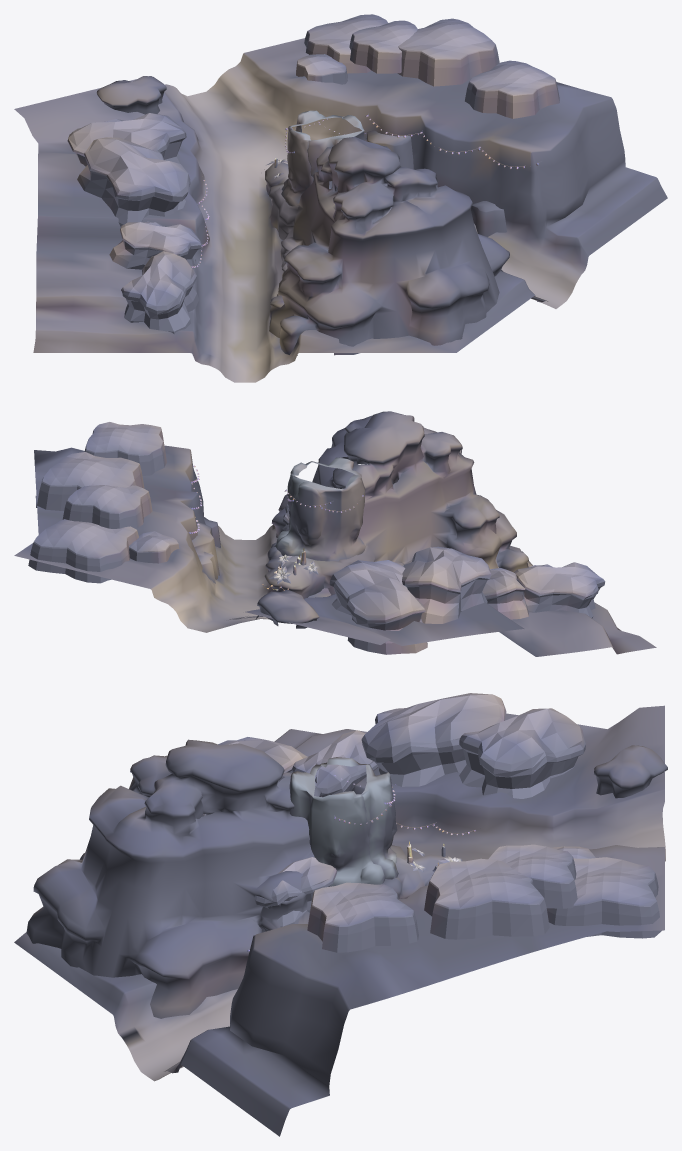
The model's file is Arctic_Luge_Junction_B.glb.
3 renders of one model, top to bottom at view 1: azimuth 30°, elevation 25°; view 2: azimuth 150°, elevation 25°; view 3: azimuth 270°, elevation 25°, orthographic. The views are drawn at different scales.
Visible parts, largest first — view 1: Arctic_Luge_Junction_B, Arctic_Luge_LargeRock_prop (1), Arctic_Luge_MediumIceRock_prop (2), Arctic_Luge_LargeRock_prop (2), Arctic_Luge_MediumIceRock_prop (3), Arctic_Luge_LargeRock_prop, Arctic_Luge_LargeRock_prop (5), uvfixed_totem, Arctic_Luge_MediumIceRock_prop (1), Arctic_Luge_MediumIceRock_prop, Arctic_Luge_SmallIceRock_prop; view 2: Arctic_Luge_Junction_B, uvfixed_totem, Arctic_Luge_LargeRock_prop, Arctic_Luge_LargeRock_prop (1), Arctic_Luge_MediumIceRock_prop, Arctic_Luge_LargeRock_prop (2), Arctic_Luge_MediumIceRock_prop (2), Arctic_Luge_MediumIceRock_prop (1), Arctic_Luge_MediumIceRock_prop (3), Arctic_Luge_LargeRock_prop (5), Arctic_Luge_SmallIceRock_prop; view 3: Arctic_Luge_Junction_B, uvfixed_totem, Arctic_Luge_LargeRock_prop (1), Arctic_Luge_MediumIceRock_prop (2), Arctic_Luge_LargeRock_prop, Arctic_Luge_MediumIceRock_prop, Arctic_Luge_MediumIceRock_prop (3), Arctic_Luge_MediumIceRock_prop (1), Arctic_Luge_LargeRock_prop (5), Arctic_Luge_LargeRock_prop (3), Arctic_Luge_LargeRock_prop (2).
Part boxes in pixels (x1,y1,x2,y2): Arctic_Luge_Junction_B: [14, 38, 667, 382]; Arctic_Luge_LargeRock_prop (1): [77, 137, 190, 226]; Arctic_Luge_MediumIceRock_prop (2): [397, 18, 499, 86]; Arctic_Luge_LargeRock_prop (2): [121, 251, 199, 334]; Arctic_Luge_MediumIceRock_prop (3): [465, 60, 559, 118]; Arctic_Luge_LargeRock_prop: [67, 113, 186, 166]; Arctic_Luge_LargeRock_prop (5): [109, 221, 201, 269]; uvfixed_totem: [281, 110, 364, 206]; Arctic_Luge_MediumIceRock_prop (1): [349, 20, 417, 73]; Arctic_Luge_MediumIceRock_prop: [304, 14, 387, 73]; Arctic_Luge_SmallIceRock_prop: [296, 54, 347, 84]; Arctic_Luge_Junction_B: [14, 411, 656, 656]; uvfixed_totem: [274, 457, 367, 561]; Arctic_Luge_LargeRock_prop: [329, 560, 427, 654]; Arctic_Luge_LargeRock_prop (1): [402, 546, 491, 623]; Arctic_Luge_MediumIceRock_prop: [28, 519, 138, 583]; Arctic_Luge_LargeRock_prop (2): [514, 562, 605, 618]; Arctic_Luge_MediumIceRock_prop (2): [37, 452, 144, 510]; Arctic_Luge_MediumIceRock_prop (1): [62, 485, 152, 528]; Arctic_Luge_MediumIceRock_prop (3): [84, 422, 166, 475]; Arctic_Luge_LargeRock_prop (5): [482, 568, 528, 619]; Arctic_Luge_SmallIceRock_prop: [129, 531, 179, 563]; Arctic_Luge_Junction_B: [14, 705, 667, 1136]; uvfixed_totem: [289, 757, 398, 886]; Arctic_Luge_LargeRock_prop (1): [361, 693, 506, 786]; Arctic_Luge_MediumIceRock_prop (2): [424, 858, 549, 939]; Arctic_Luge_LargeRock_prop: [459, 708, 585, 798]; Arctic_Luge_MediumIceRock_prop: [547, 857, 661, 938]; Arctic_Luge_MediumIceRock_prop (3): [307, 882, 418, 952]; Arctic_Luge_MediumIceRock_prop (1): [488, 844, 577, 908]; Arctic_Luge_LargeRock_prop (5): [292, 730, 378, 797]; Arctic_Luge_LargeRock_prop (3): [254, 857, 336, 930]; Arctic_Luge_LargeRock_prop (2): [218, 737, 307, 781].
Size of what is drawn, in the model's own units: 44.96 by 12.15 by 31.94.
